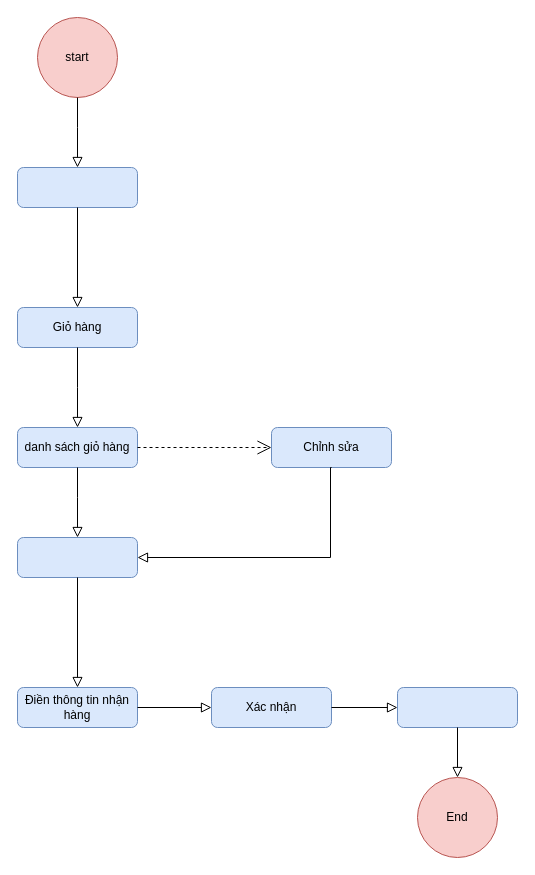
Image size: 535x875. Some labels were removed from this diagram. Here are the shapes that lost their labels. From the top down, the centre of each, then its label:
At (x=77, y=187): "chọn sản phẩm".
At (x=77, y=557): "Thanh toán".
At (x=457, y=707): "Chi tiết đơn hàng".
